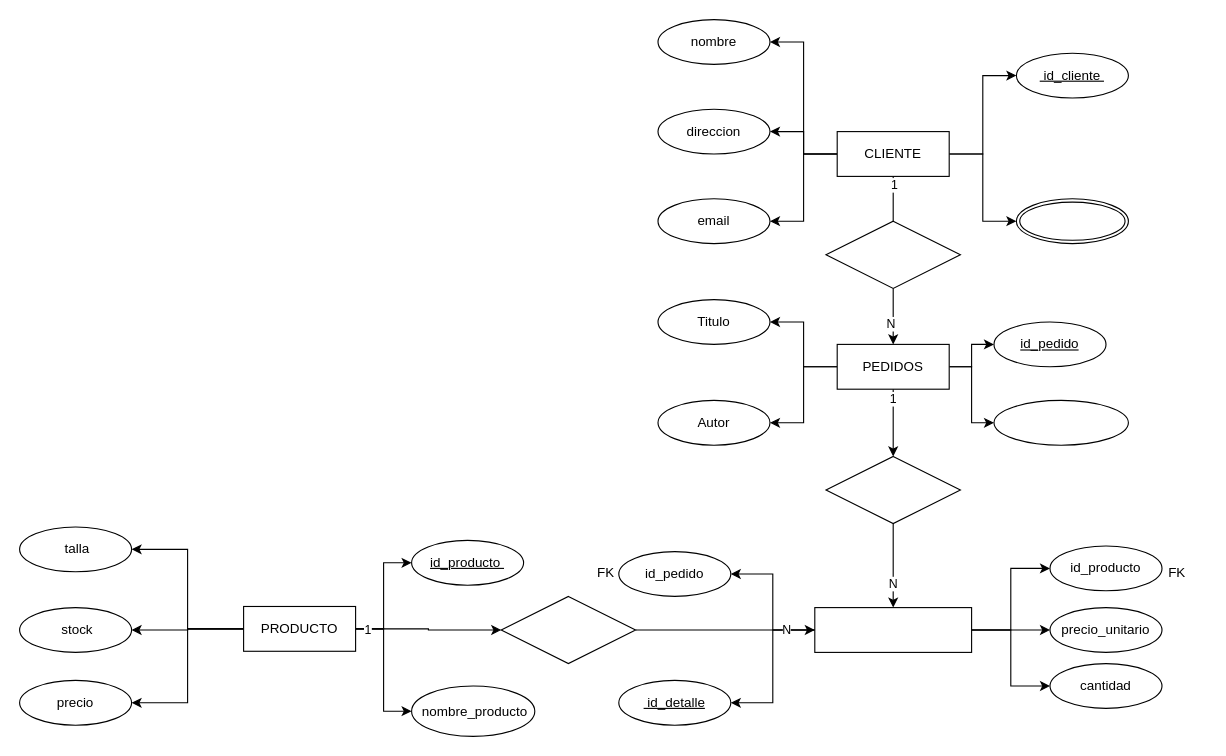
This 1226x756 diagram has some shape labels left out. Each missing label, with the centre of its shape:
"Contiene" goes at (x=892, y=489).
"DETALLE_PEDIDO" goes at (x=893, y=629).
"fecha_pedido" goes at (x=1060, y=422).
"Incluye" goes at (x=568, y=629).
"Realiza" goes at (x=892, y=254).
"Telefono" goes at (x=1071, y=221).
